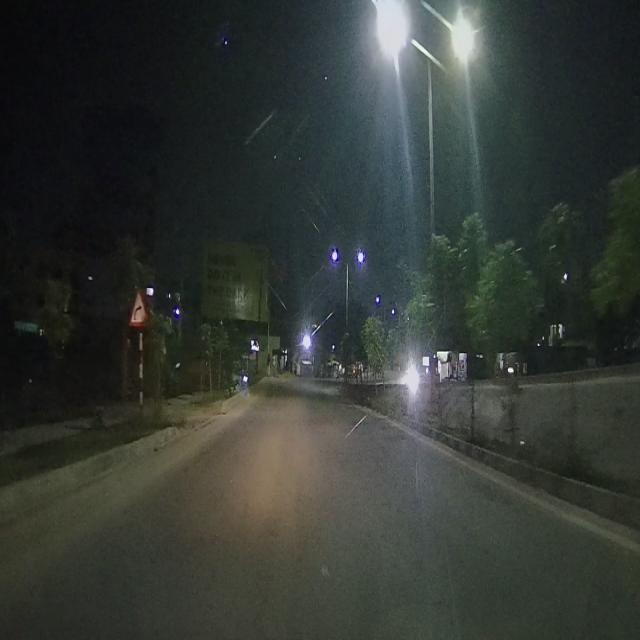right-hand-curve: (127, 287, 148, 327)
